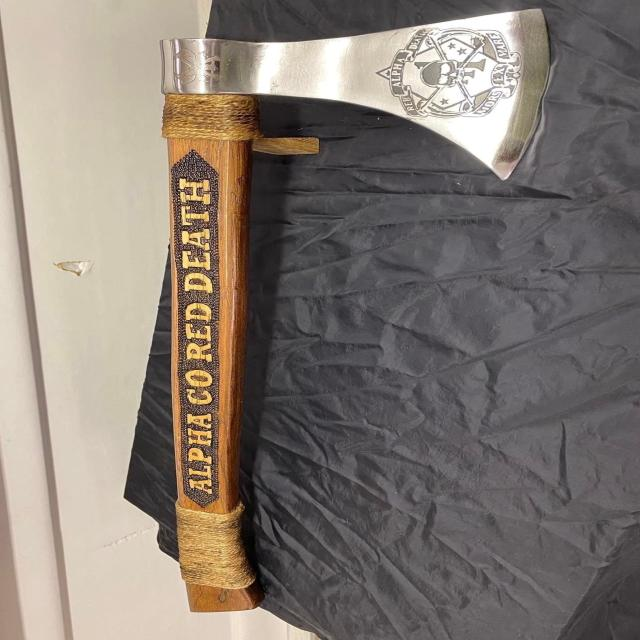Gun: (130, 0, 558, 640)
